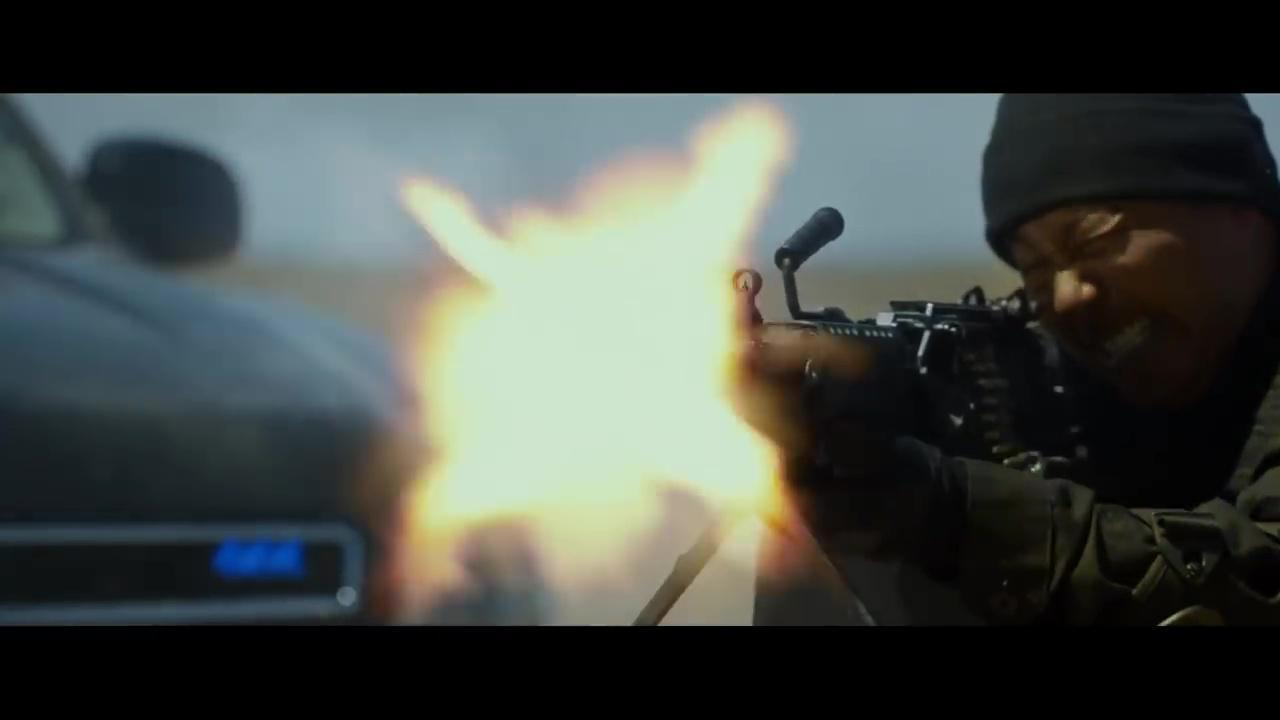Gun: (699, 202, 1124, 533)
